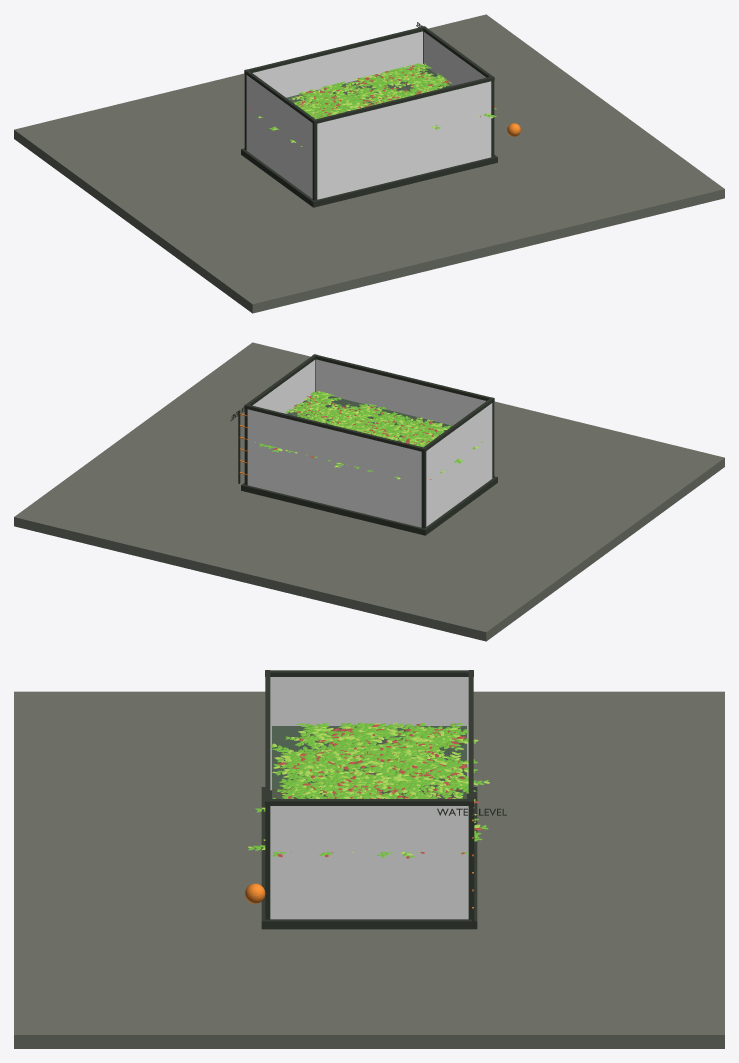
Rendered from red.glb.
3 renders of one model, top to bottom at view 1: azimuth 30°, elevation 25°; view 2: azimuth 150°, elevation 25°; view 3: azimuth 270°, elevation 25°, orthographic. The views are drawn at different scales.
Parts seen in each view (by area): view 1: Ground, Glass_Front, Glass_Left, Glass_Back, AZOLLA_FLOATING_MAT, Tank_Base, Glass_Right, Frame_Rail.001, Frame_Rail, WATER_BODY; view 2: Ground, Glass_Back, Glass_Front, Glass_Left, AZOLLA_FLOATING_MAT, Tank_Base, Glass_Right, Frame_Rail, Frame_Rail.001, WATER_BODY; view 3: Ground, Glass_Right, AZOLLA_FLOATING_MAT, Glass_Left, Tank_Base, WATER_BODY, Frame_Rail.003, Frame_Rail.002, Frame_Rail.001, Frame_Rail, Frame_Post.002.
Part boxes in pixels (x1=…): Ground: x1=14, y1=14, x2=724, y2=313; Glass_Front: x1=317, y1=81, x2=491, y2=199; Glass_Left: x1=246, y1=75, x2=312, y2=198; Glass_Back: x1=253, y1=31, x2=422, y2=97; AZOLLA_FLOATING_MAT: x1=250, y1=63, x2=496, y2=146; Tank_Base: x1=241, y1=148, x2=497, y2=207; Glass_Right: x1=423, y1=32, x2=485, y2=85; Frame_Rail.001: x1=244, y1=26, x2=426, y2=74; Frame_Rail: x1=312, y1=76, x2=493, y2=123; WATER_BODY: x1=286, y1=65, x2=451, y2=111; Ground: x1=14, y1=342, x2=724, y2=641; Glass_Back: x1=247, y1=409, x2=421, y2=527; Glass_Front: x1=316, y1=359, x2=485, y2=425; Glass_Left: x1=426, y1=403, x2=492, y2=526; AZOLLA_FLOATING_MAT: x1=255, y1=391, x2=482, y2=479; Tank_Base: x1=241, y1=476, x2=497, y2=535; Glass_Right: x1=253, y1=360, x2=315, y2=413; Frame_Rail: x1=312, y1=354, x2=494, y2=402; Frame_Rail.001: x1=245, y1=404, x2=426, y2=451; WATER_BODY: x1=287, y1=395, x2=451, y2=441; Ground: x1=14, y1=691, x2=724, y2=1048; Glass_Right: x1=270, y1=806, x2=468, y2=919; AZOLLA_FLOATING_MAT: x1=248, y1=722, x2=489, y2=858; Glass_Left: x1=270, y1=677, x2=468, y2=790; Tank_Base: x1=261, y1=787, x2=477, y2=929; WATER_BODY: x1=272, y1=726, x2=466, y2=798; Frame_Rail.003: x1=265, y1=799, x2=473, y2=805; Frame_Rail.002: x1=265, y1=670, x2=473, y2=676; Frame_Rail.001: x1=468, y1=670, x2=473, y2=805; Frame_Rail: x1=265, y1=670, x2=270, y2=805; Frame_Post.002: x1=265, y1=806, x2=270, y2=919.
Bounding box in the file's own units: 16 × 3.07 × 14.
